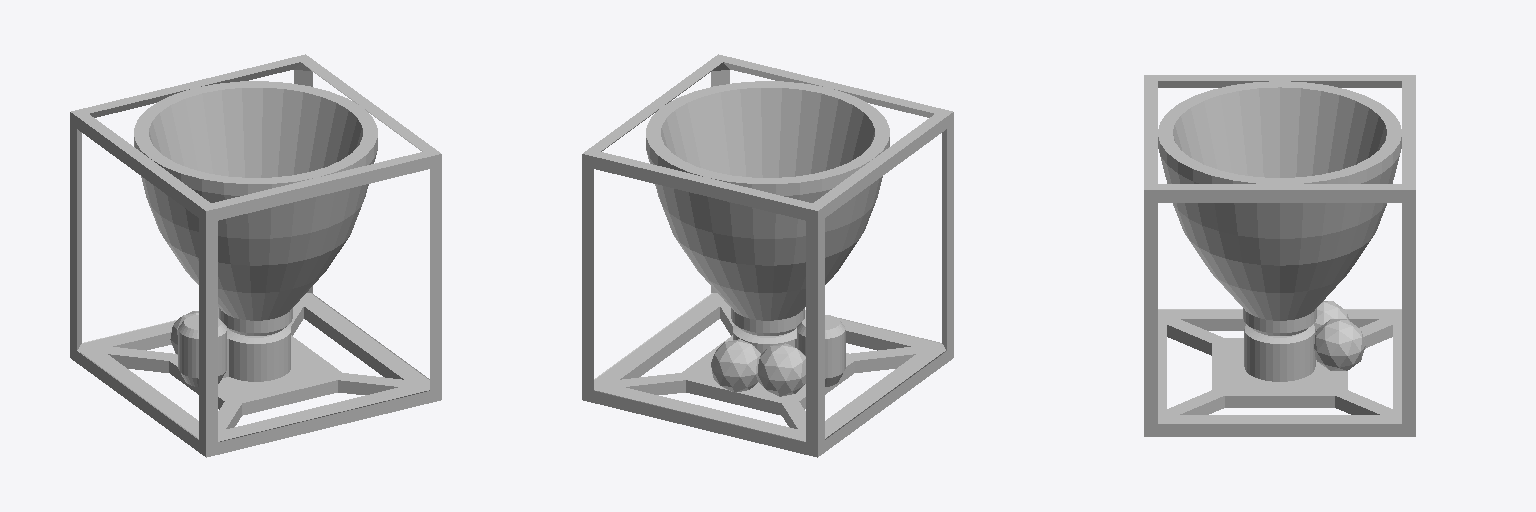
The model's file is thruster.obj.
3 renders of one model, left to right at view 1: azimuth 30°, elevation 25°; view 2: azimuth 150°, elevation 25°; view 3: azimuth 270°, elevation 25°, orthographic.
Visible parts, largest first — view 1: Thruster_Cylinder, Frame_Cube, Plane, Cylinder.023_Cylinder.003, Cylinder.024_Cylinder.004; view 2: Thruster_Cylinder, Frame_Cube, Plane, Icosphere.002_Icosphere.003, Icosphere.003_Icosphere.004, Cylinder.024_Cylinder.004, Cylinder.023_Cylinder.003; view 3: Thruster_Cylinder, Frame_Cube, Plane, Cylinder.023_Cylinder.003, Icosphere.003_Icosphere.004, Icosphere.002_Icosphere.003.
Boxes of the visible parts, box(x1,y1,x2,y2) form: Thruster_Cylinder: box(134, 81, 377, 335); Frame_Cube: box(70, 54, 441, 457); Plane: box(78, 293, 429, 441); Cylinder.023_Cylinder.003: box(223, 324, 290, 381); Cylinder.024_Cylinder.004: box(178, 315, 226, 386); Thruster_Cylinder: box(646, 81, 889, 335); Frame_Cube: box(582, 54, 953, 457); Plane: box(594, 293, 945, 441); Icosphere.002_Icosphere.003: box(758, 343, 805, 396); Icosphere.003_Icosphere.004: box(711, 339, 760, 392); Cylinder.024_Cylinder.004: box(797, 315, 845, 386); Cylinder.023_Cylinder.003: box(733, 324, 796, 353); Thruster_Cylinder: box(1158, 81, 1401, 335); Frame_Cube: box(1144, 75, 1415, 436); Plane: box(1158, 310, 1401, 423); Cylinder.023_Cylinder.003: box(1244, 324, 1315, 381); Icosphere.003_Icosphere.004: box(1314, 319, 1365, 370); Icosphere.002_Icosphere.003: box(1314, 301, 1349, 330).
Size of the model in its own units: 3 by 3 by 3.